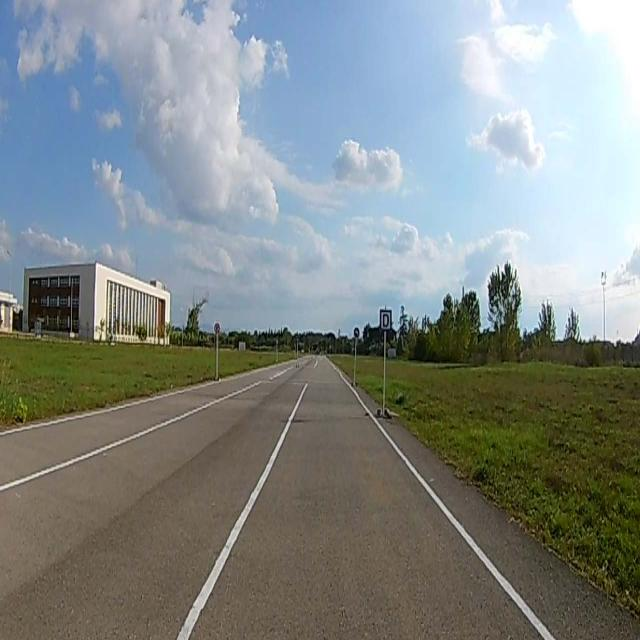durak: (380, 310, 392, 331)
